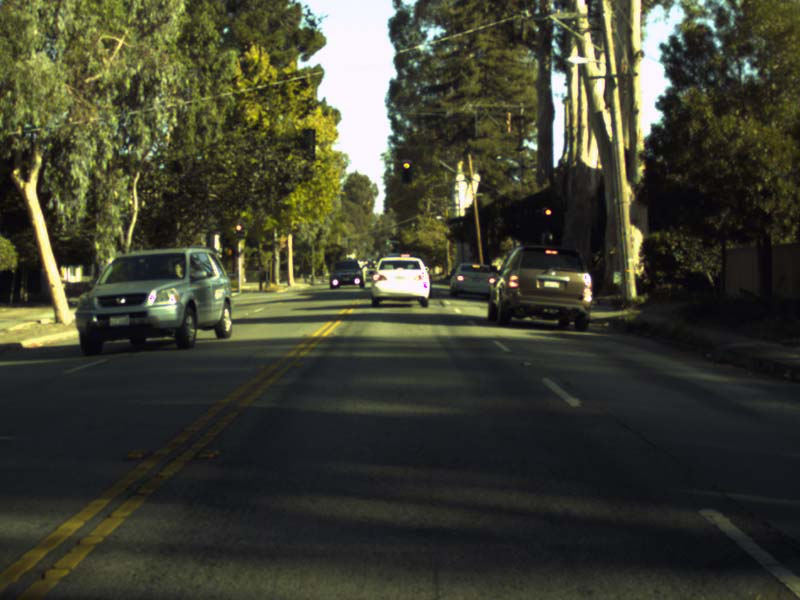Red: (541, 206, 553, 231), (401, 158, 411, 182)
